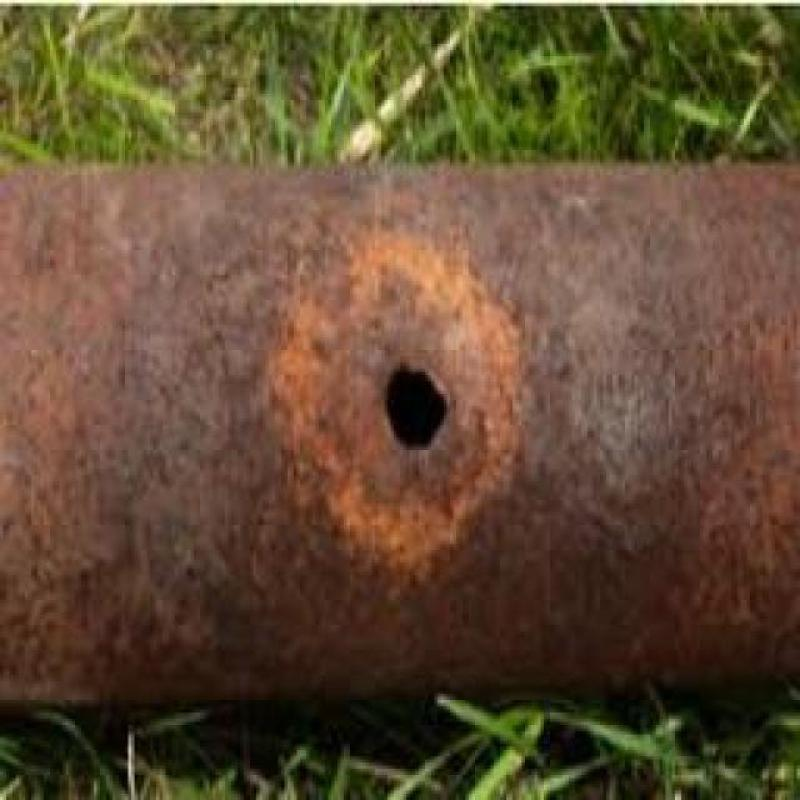Fracture: (339, 333, 492, 471)
corrosion: (496, 171, 800, 682), (4, 164, 288, 689)
